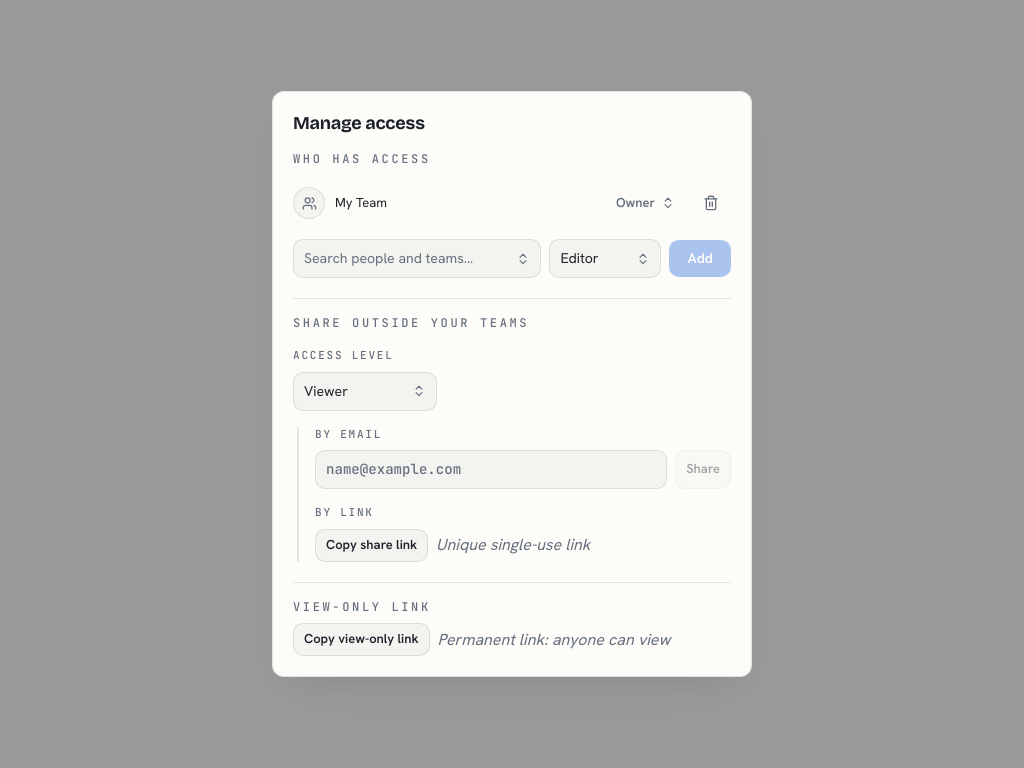
Test: AccessManager › the share link mints a single-use link and copies it to the clipboard
Click the button "Copy share link" at (372, 545), box x1=315 y1=529 x2=428 y2=562
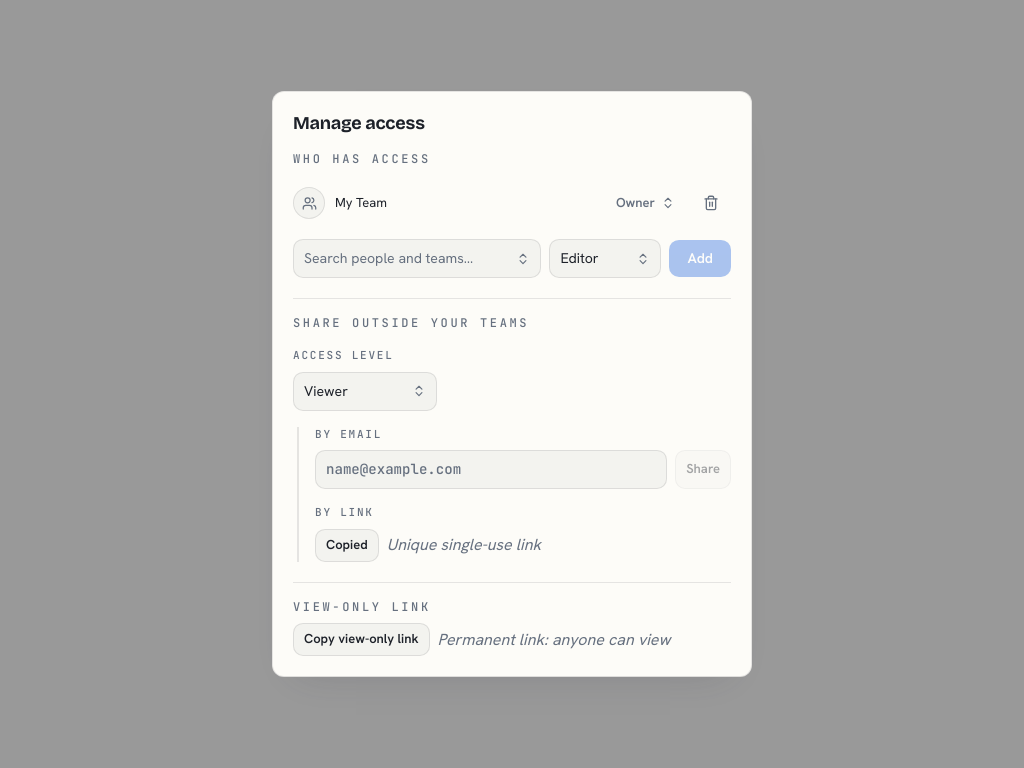
Check: the button "Copied" is shown, box x1=315 y1=529 x2=379 y2=562
